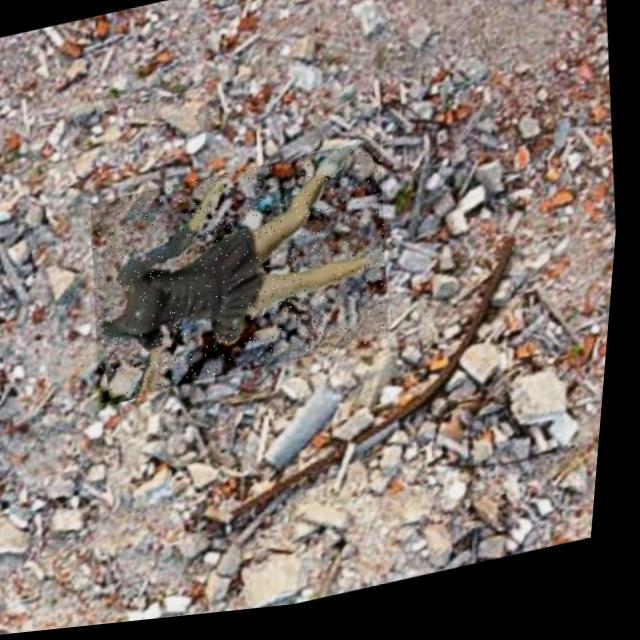Person in Rubble: (80, 143, 408, 407)
